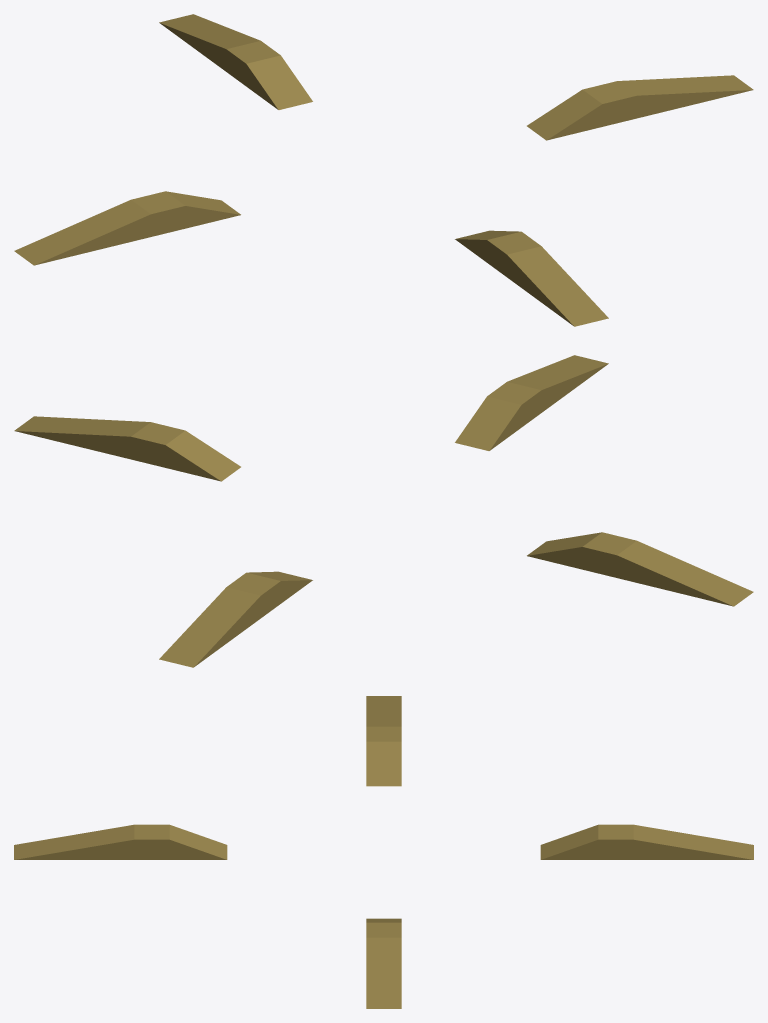
File: _important.dae
The picture shows the model from 3 angles, top to bottom: view 1: azimuth 30°, elevation 25°; view 2: azimuth 150°, elevation 25°; view 3: azimuth 270°, elevation 25°; orthographic projection. The views are drawn at different scales.
Parts seen in each view (by area): view 1: Cone; view 2: Cone; view 3: Cone.
Part boxes in pixels (box(x1,y1,x2,y2)): Cone: box(14, 14, 753, 326); Cone: box(14, 355, 753, 667); Cone: box(14, 696, 753, 1008).
Bounding box in the file's own units: 2081 × 2081 × 62.95.
